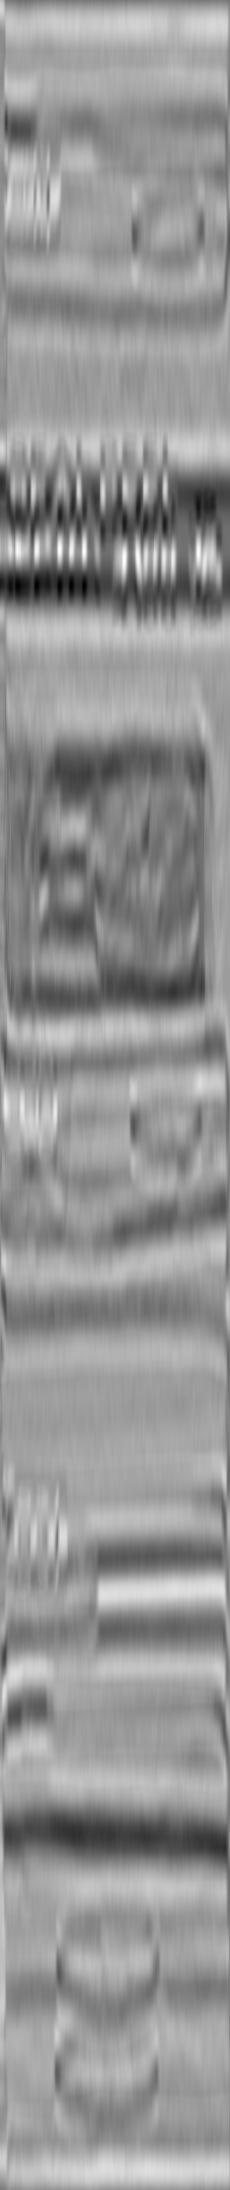hplug: (121, 184, 210, 265), (125, 1082, 210, 1166), (40, 1546, 102, 1638)
scal: (47, 1906, 164, 2020), (47, 2022, 166, 2129)
vplug: (1, 1068, 79, 1217), (46, 137, 107, 300)
